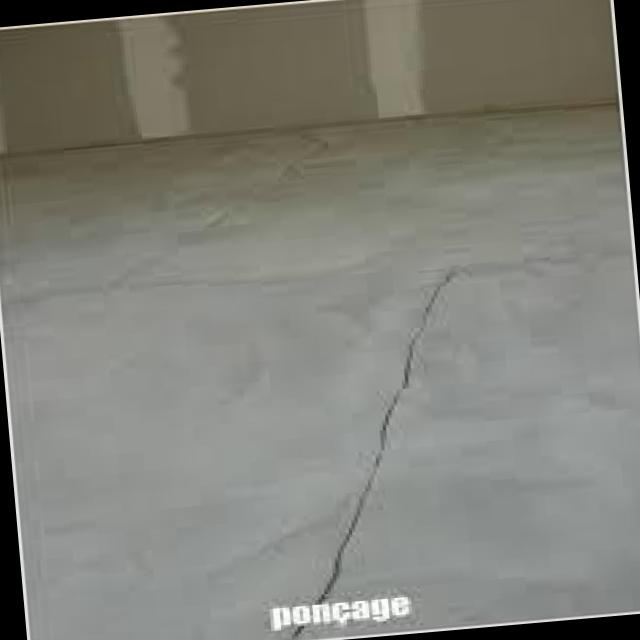crack: (314, 247, 631, 604)
